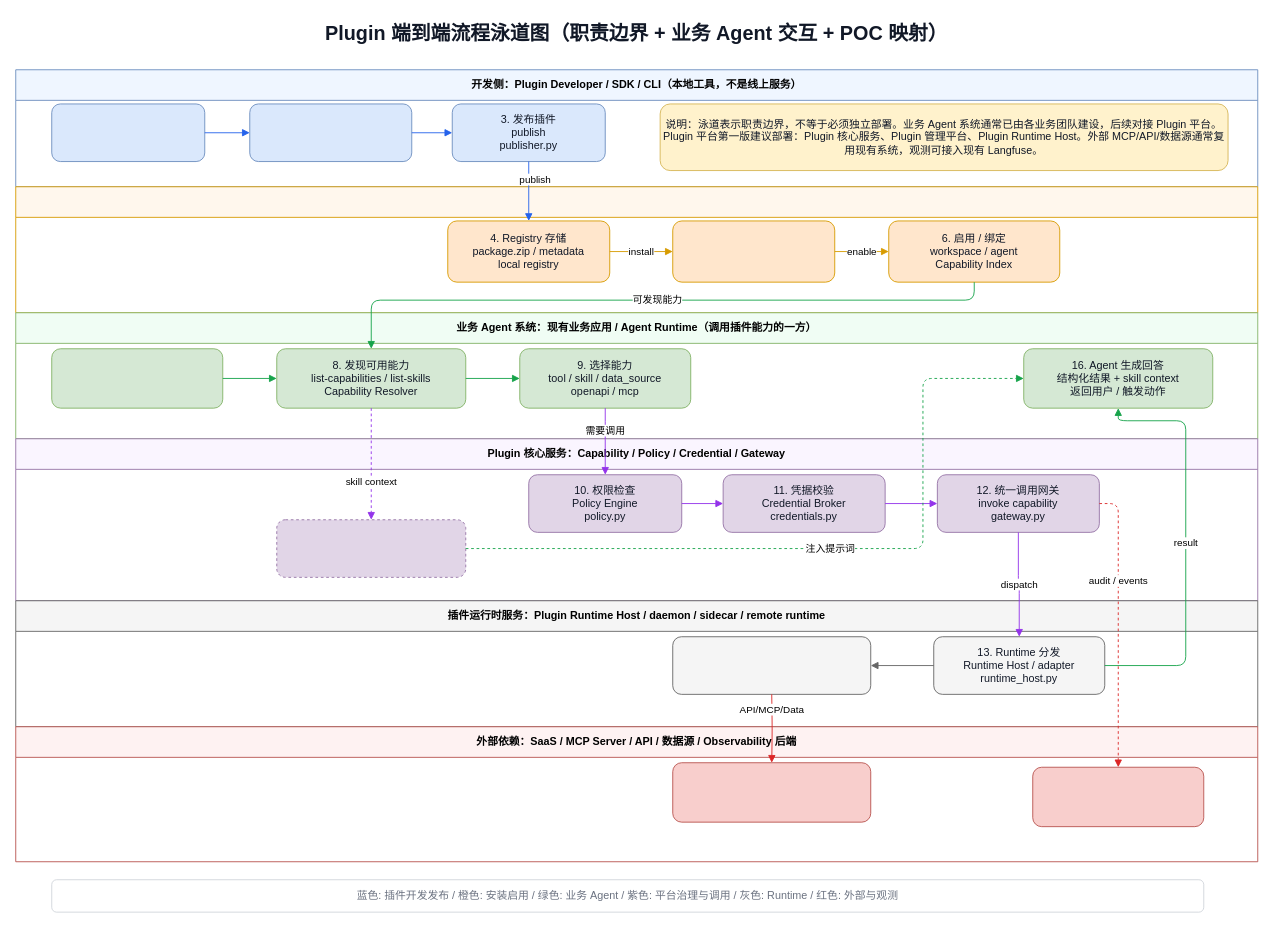
Image size: 1274x928. Some labels were removed from this diagram. The box of each missing label's shape, as (x1, y1, x2, y2) in pixels:
1. 编写插件 plugin.yaml / 子配置 POC: slack-demo: (51, 103, 205, 162)
14. 执行能力 OpenAPI / MCP / Data Source Tool mock / Skill load: (672, 636, 871, 694)
15. 外部系统 / 数据源 Streamable MCP / API local_json / SaaS: (672, 762, 871, 822)
2. 校验 / 打包 validate / package validator.py / packager.py: (249, 103, 412, 162)
5. 安装插件 install manager.install_plugin: (672, 220, 835, 282)
7. 业务 Agent 收到任务 用户问题 / 业务流程触发: (51, 348, 223, 408)
Skill 上下文装配 render-skill-context skill_runtime.py: (276, 519, 466, 577)
审计与观测 audit_log.jsonl runtime_events.jsonl: (1032, 766, 1204, 827)
平台管理面：Plugin Registry / Plugin Manager（可同服务或拆服务）: (15, 186, 1258, 313)
